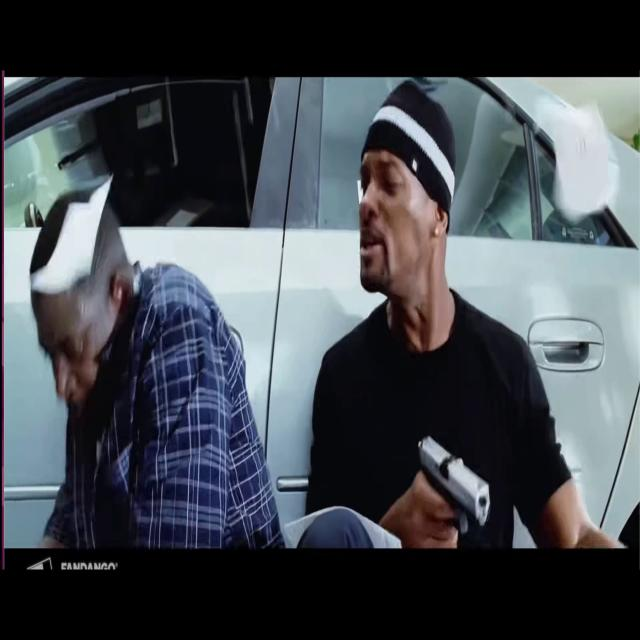weapons: (406, 416, 497, 549)
